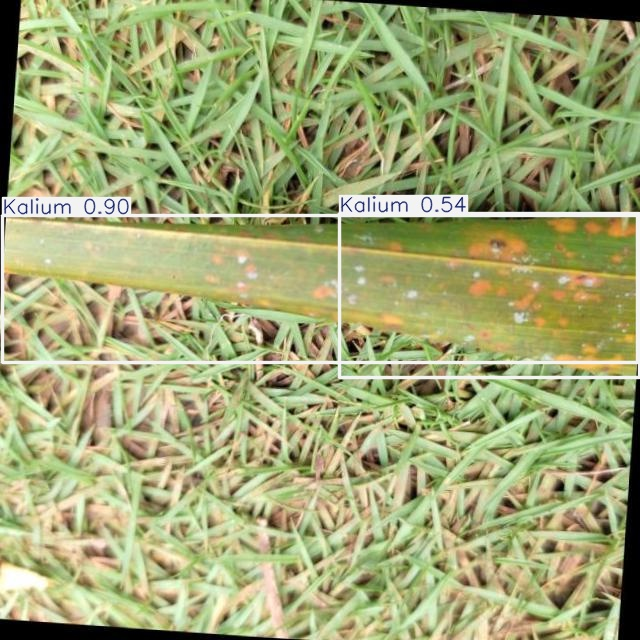Kalium: (3, 215, 638, 363), (339, 214, 640, 378)
